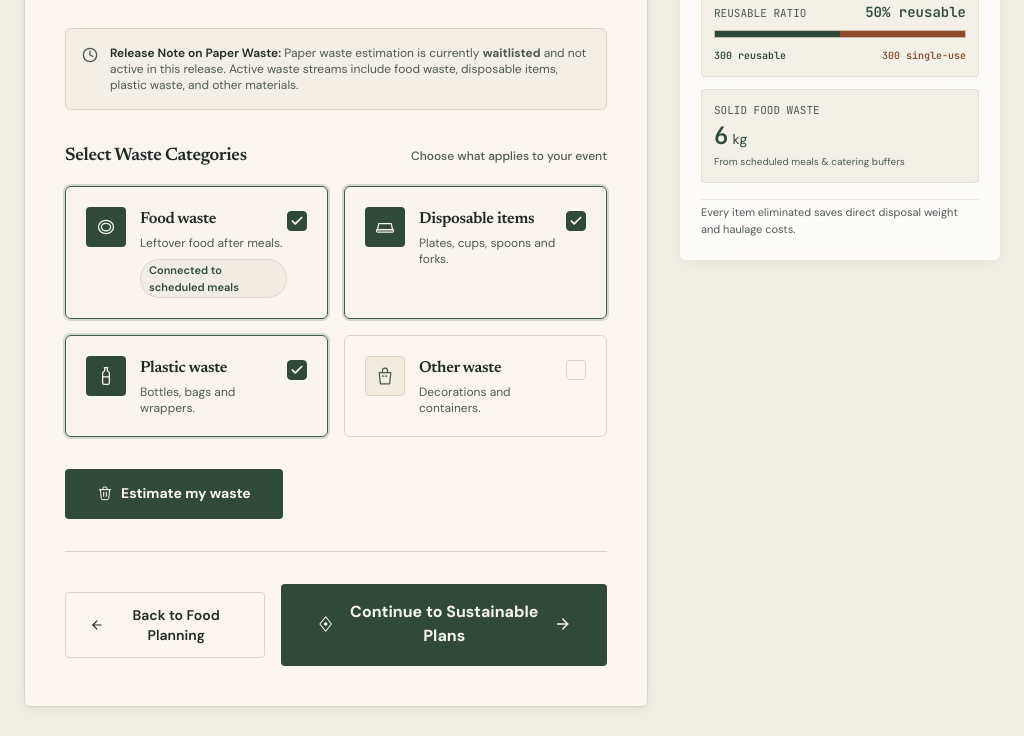
it: Waste Planning Page (Step 5 - Simplified MVP UX) › submits a valid contract-compliant request via the API client and shows results
(page scrolled)
Click the button "Estimate my waste".
click(174, 494)  # box x1=65 y1=469 x2=283 y2=519
(page scrolled)
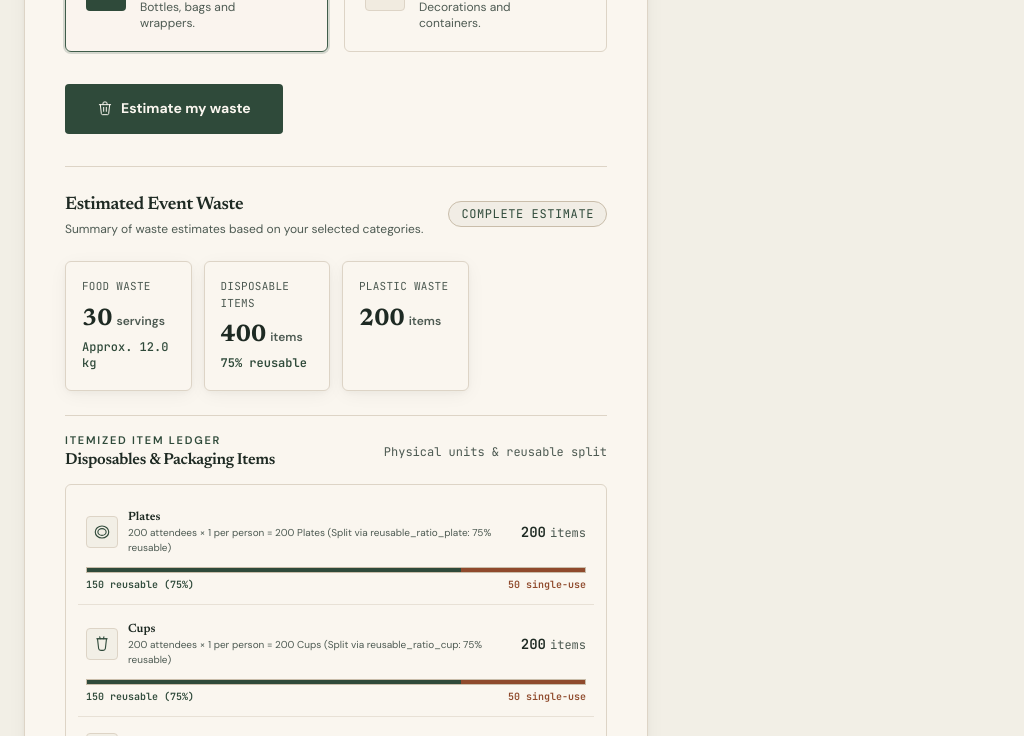
Now the heading "Estimated Event Waste" is shown, box x1=65 y1=196 x2=243 y2=214
Now the text "Complete Estimate" is shown, box x1=448 y1=201 x2=607 y2=227
Now the text "Approx. 12.0 kg" is shown, box x1=82 y1=338 x2=174 y2=370
